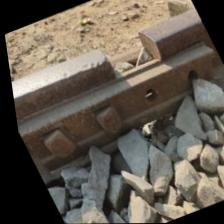person: (62, 1, 187, 104)
